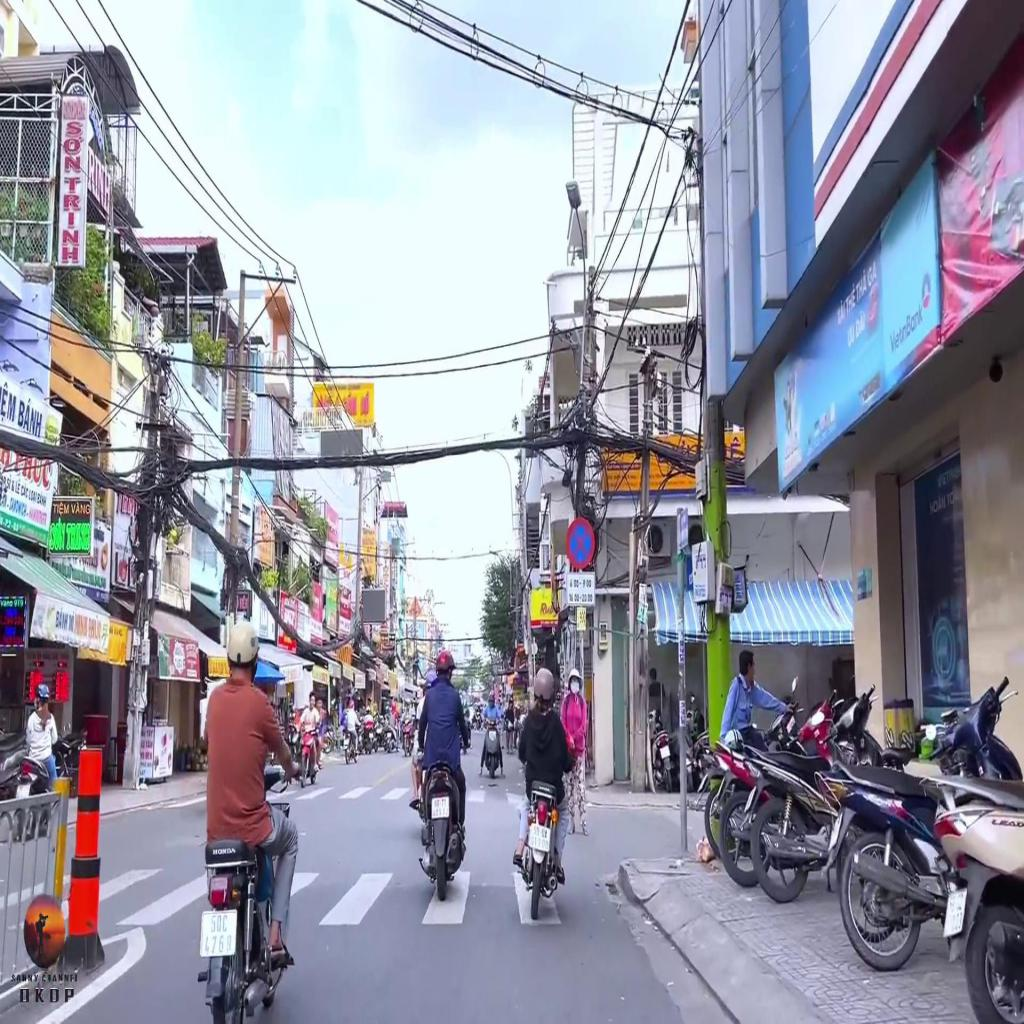cam_dung_xe_va_do_xe: (566, 517, 597, 570)
khac: (566, 574, 596, 606)
